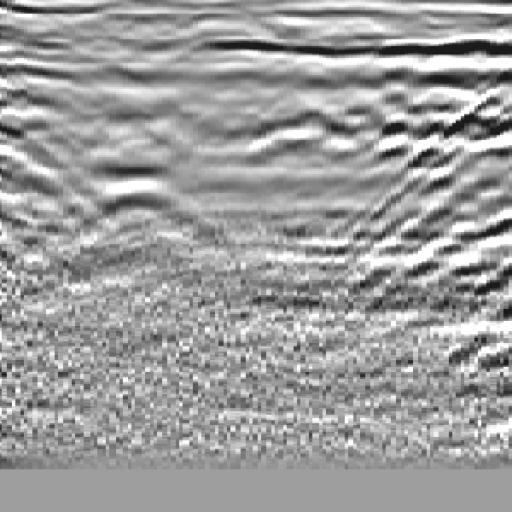metalic: (60, 25, 222, 267)
nonmetalic: (377, 26, 512, 302)
